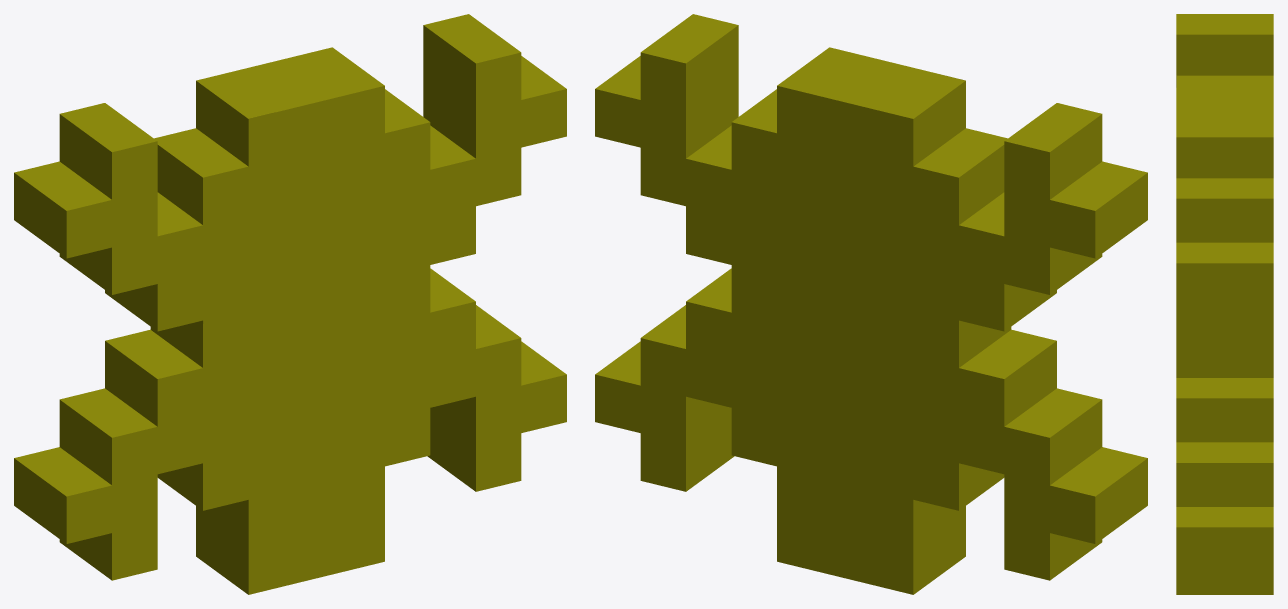
File: life.obj
3 renders of one model, left to right at view 1: azimuth 30°, elevation 25°; view 2: azimuth 150°, elevation 25°; view 3: azimuth 270°, elevation 25°, orthographic. The views are drawn at different scales.
Parts seen in each view (by area): view 1: Cube_Cube.001; view 2: Cube_Cube.001; view 3: Cube_Cube.001.
Boxes of the visible parts, left/top/right/bottom form: Cube_Cube.001: left=14, top=14, right=566, bottom=594; Cube_Cube.001: left=595, top=14, right=1147, bottom=594; Cube_Cube.001: left=1176, top=14, right=1273, bottom=594.
Size of the model in its own units: 1.1 by 1 by 0.2.
